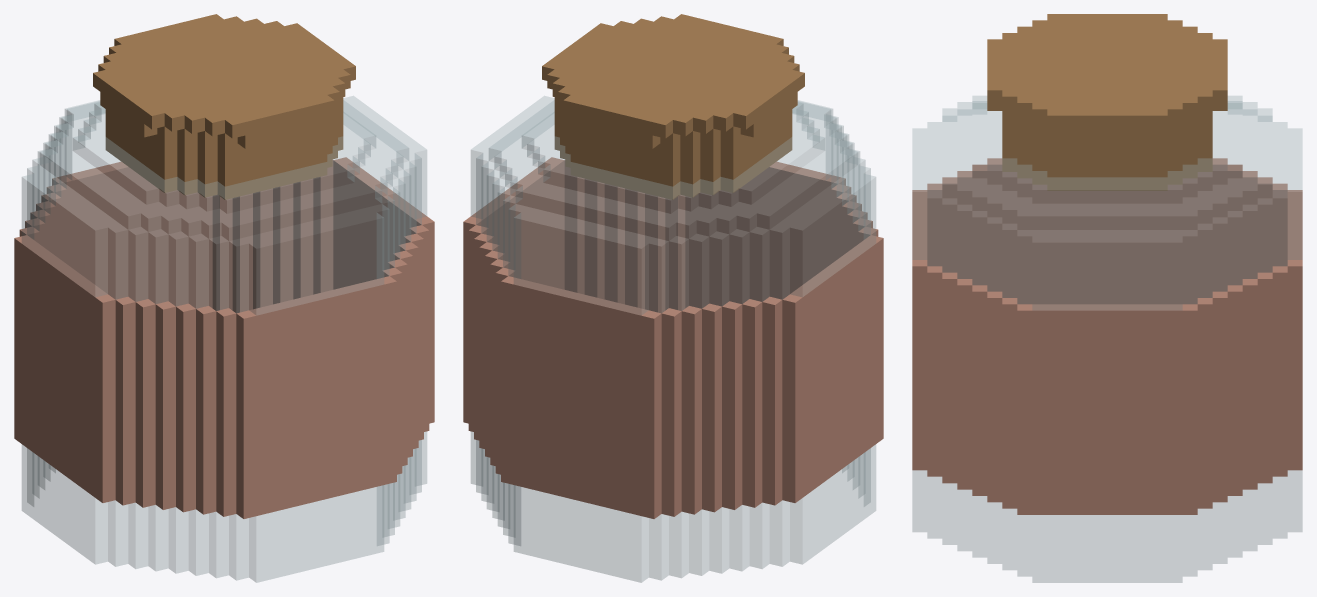
The model's file is bone_glue.glb.
The picture shows the model from 3 angles, left to right: view 1: azimuth 30°, elevation 25°; view 2: azimuth 150°, elevation 25°; view 3: azimuth 270°, elevation 25°; orthographic projection.
Parts seen in each view (by area): view 1: bone_glue:compound; view 2: bone_glue:compound; view 3: bone_glue:compound.
Part boxes in pixels (x1,y1,x2,y2): bone_glue:compound: (14,14,434,582); bone_glue:compound: (463,14,883,582); bone_glue:compound: (912,14,1302,582).
Bounding box in the file's own units: 0.052 × 0.064 × 0.052.
